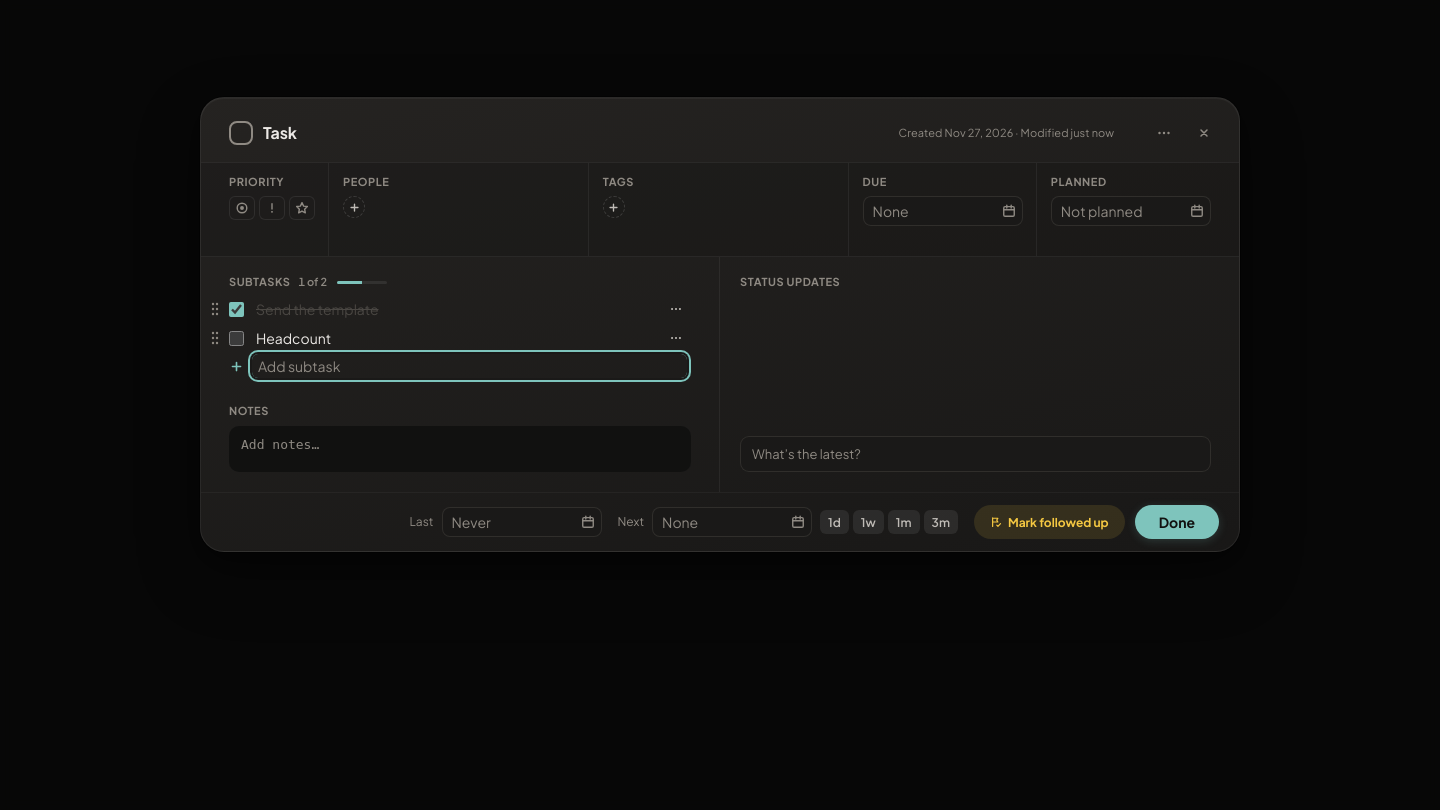
Test case: TaskEditPopup — Subtasks (edit mode) › lists the checklist with its count; ⏎ in the add row writes a subtask last and keeps the focus
The width and height of the screenshot is (1440, 810).
Expected: the text "1 of 2" is shown, [298, 275, 327, 289]
Type " Travel actuals " into the field named "New subtask".
click(470, 366); type(" Travel actuals ")  # box [252, 354, 687, 378]
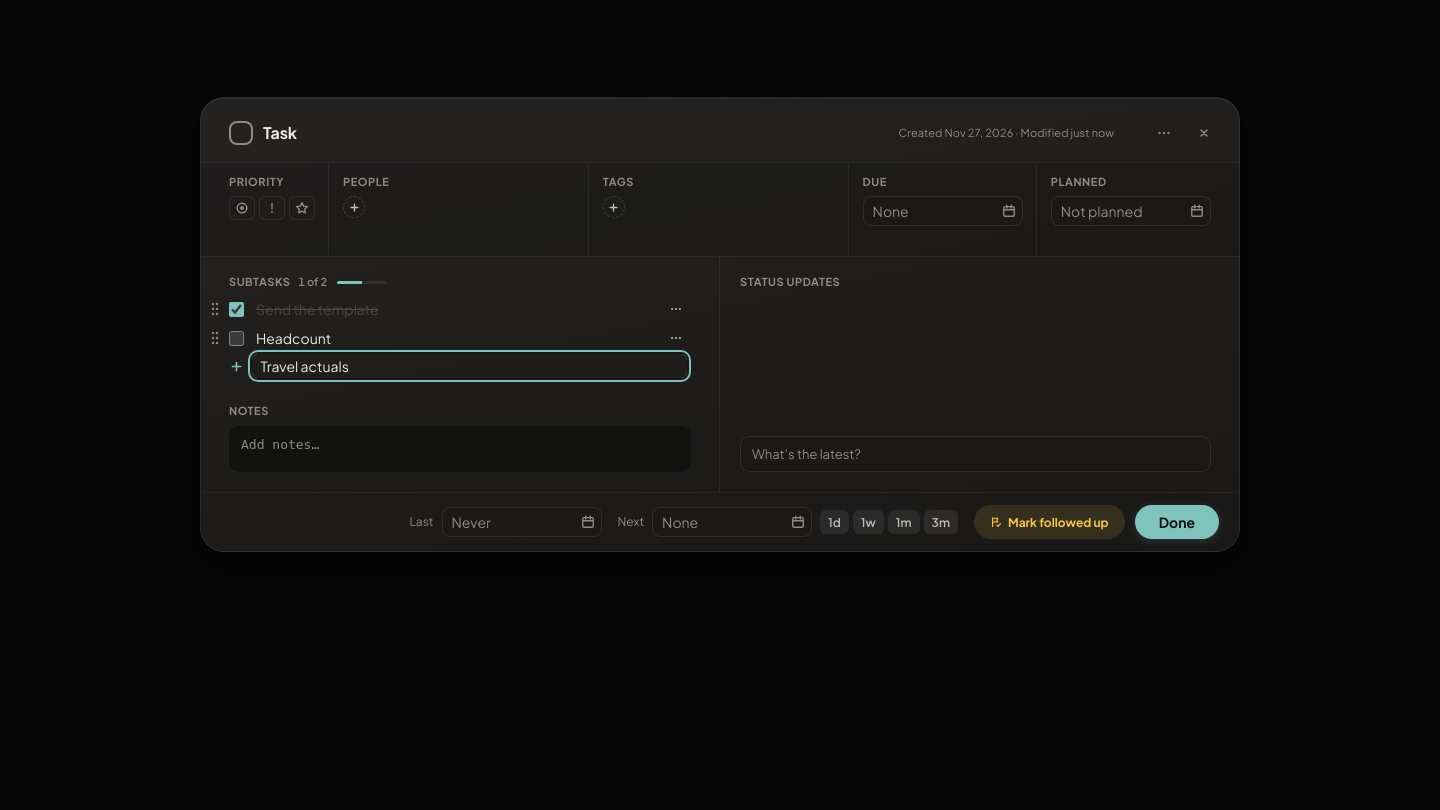
Press Enter in the field named "New subtask", box [252, 354, 687, 378]
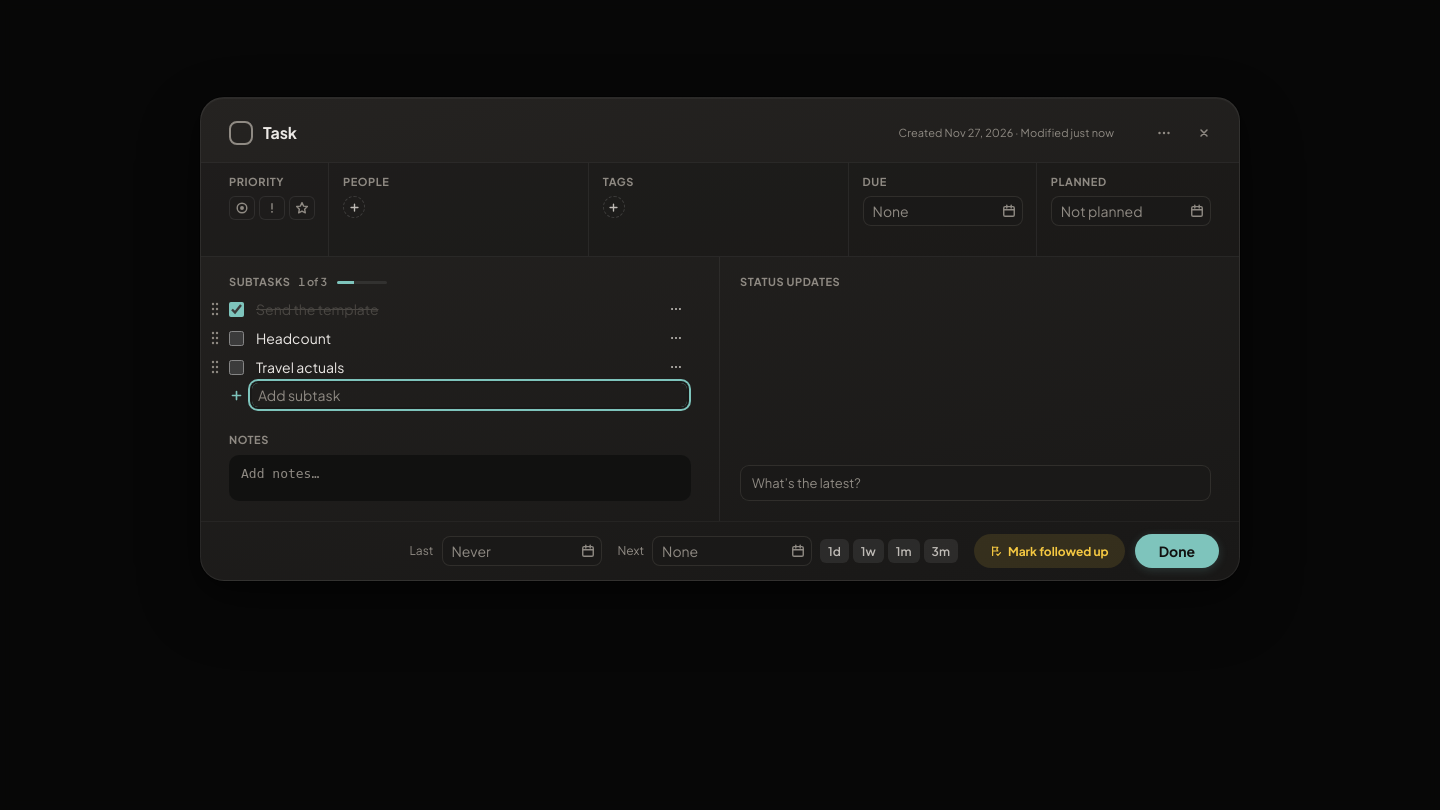
Expected: the field named "New subtask" is empty, [252, 383, 687, 407]
Expected: the text "1 of 3" is shown, [298, 275, 327, 289]
